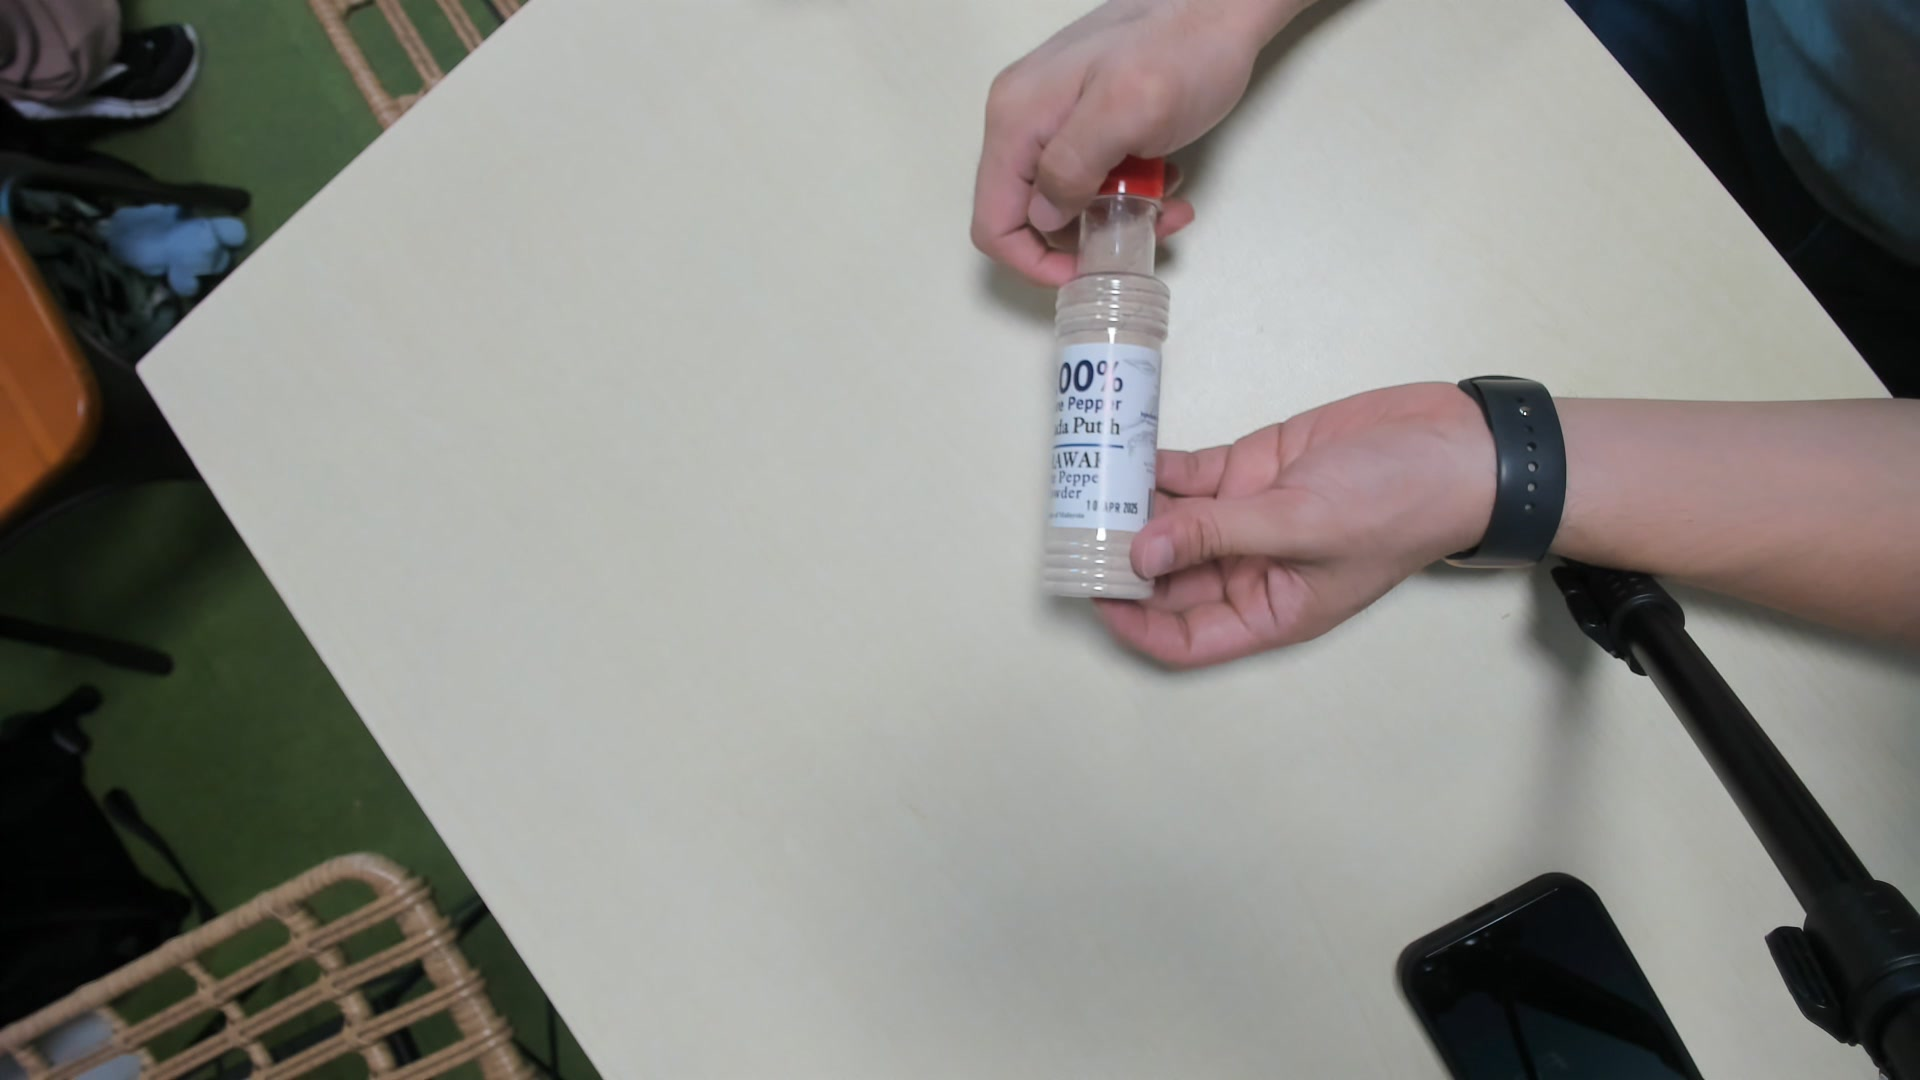HerbsSpicesPepper_0-99g_NonHalal_NonHealthy: (1042, 156, 1172, 603)
